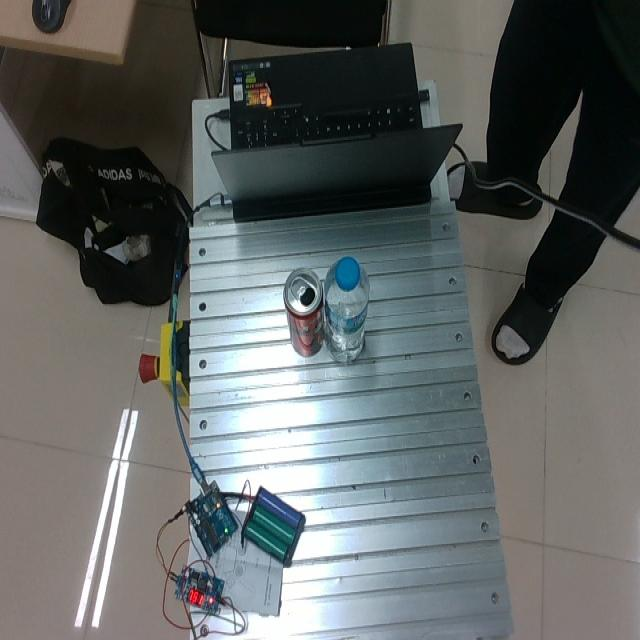coca: (282, 267, 325, 357)
lavie: (321, 255, 369, 362)
